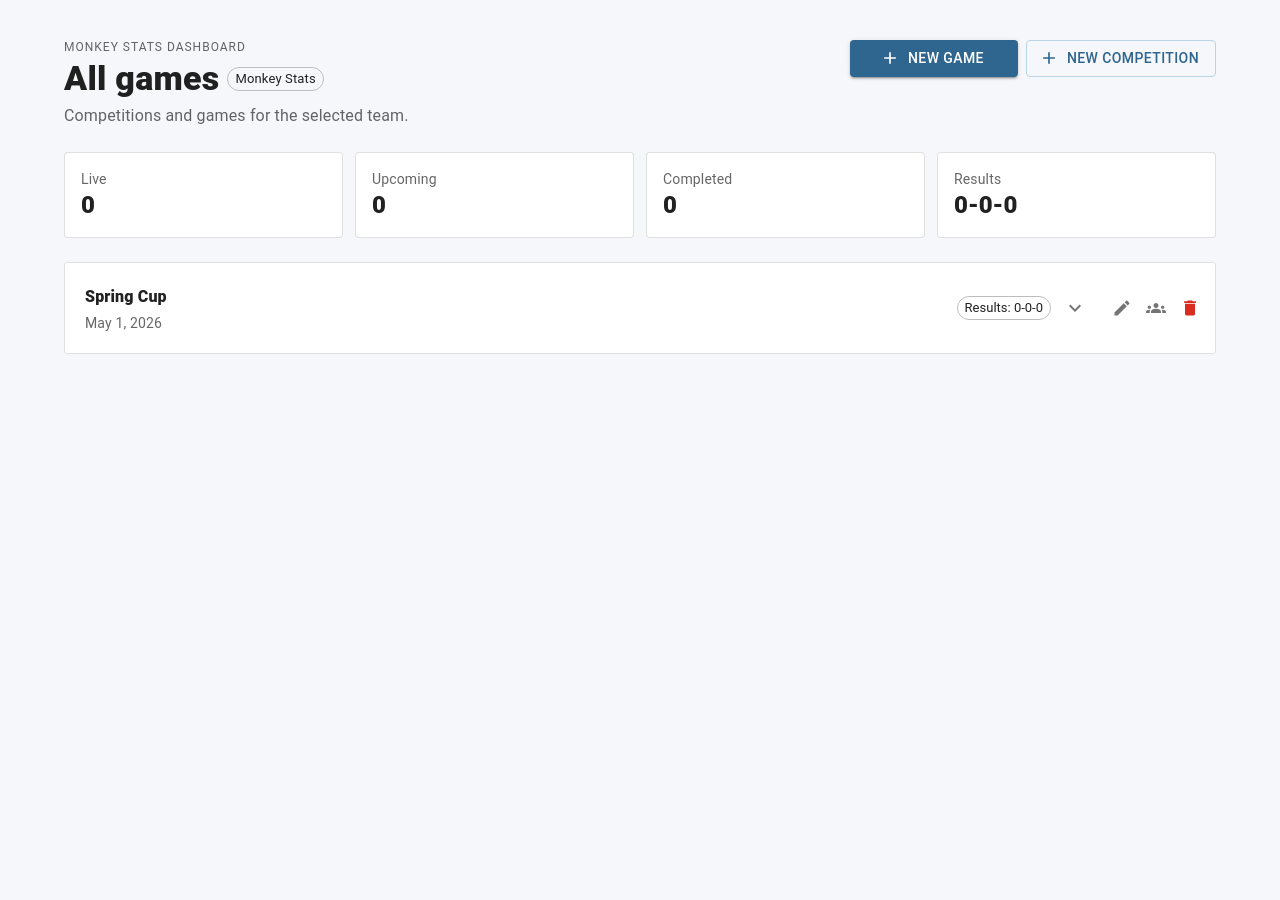
Test case: AllGamesPage › shows competition edit and roster actions for users with edit access
Expected: the heading "Spring Cup" is shown, [85,283,167,311]
Expected: the button named "Manage Spring Cup roster" is shown, [1141,293,1171,323]
What coordinates should you click on to do the following:
click the button named "Edit Spring Cup competition"
I would click on:
 (1122, 308)
Its box is [1107,293,1137,323].
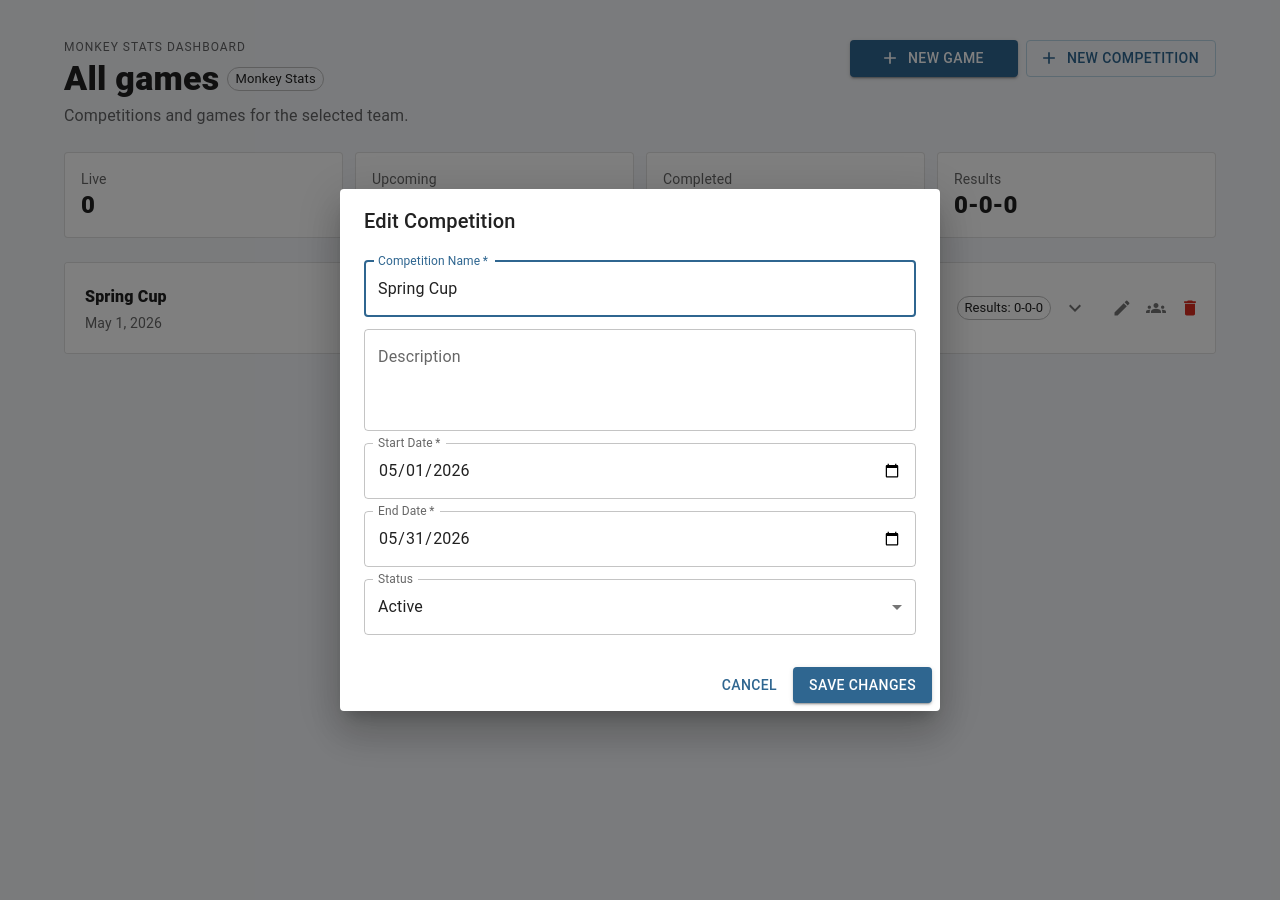
Result: the heading "Edit Competition" is shown at [364,209,516,233]
What coordinates should you click on to do the following:
click the button "Cancel"
I would click on:
 (749, 685)
Its box is [714,667,785,703].
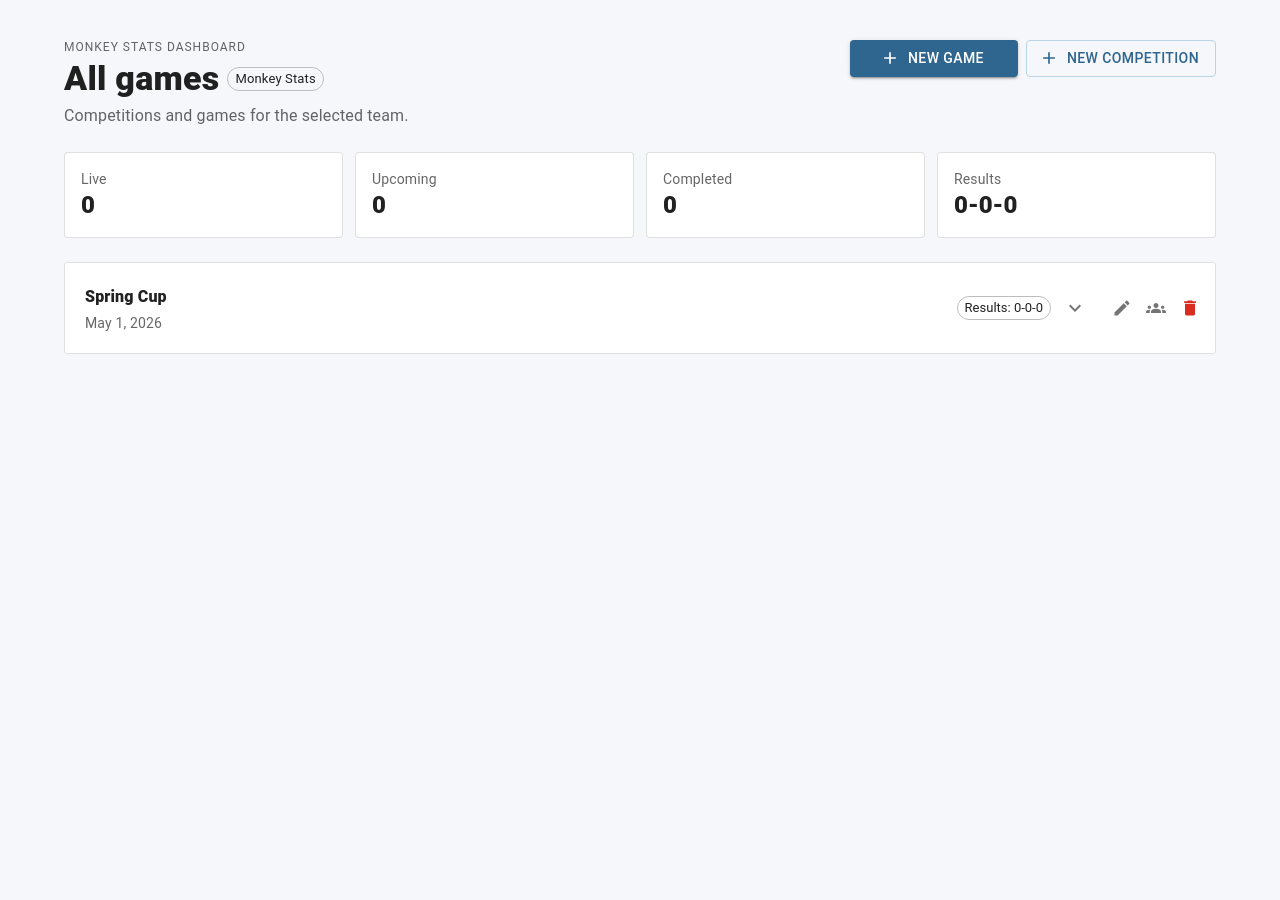
Result: the heading "Edit Competition" is gone
What coordinates should you click on to do the following:
click the button named "Manage Spring Cup roster"
I would click on:
 (1156, 308)
Its box is [1141,293,1171,323].
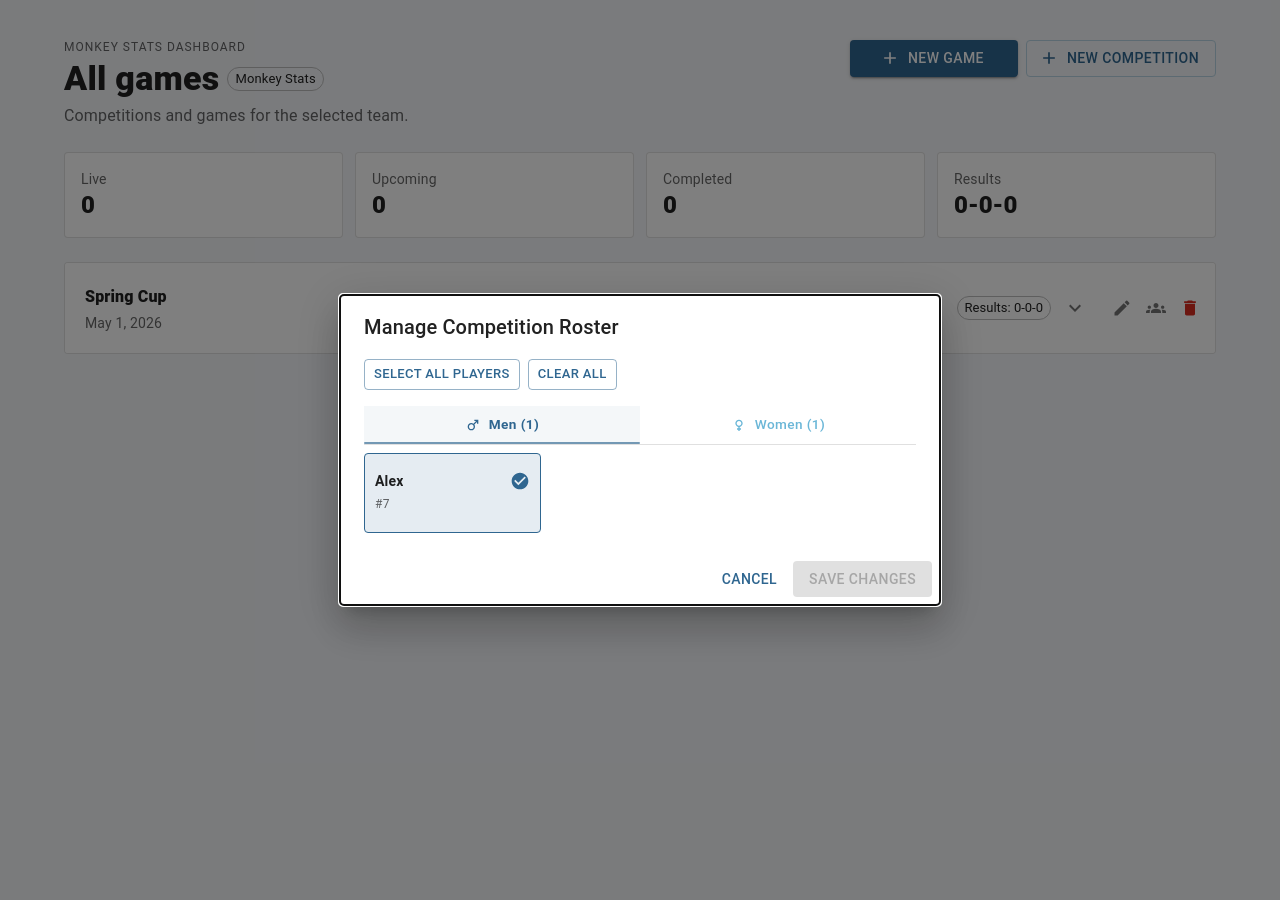
Result: the heading "Manage Competition Roster" is shown at [364,315,619,339]
Result: the text "Alex" is shown at [375,471,403,491]
